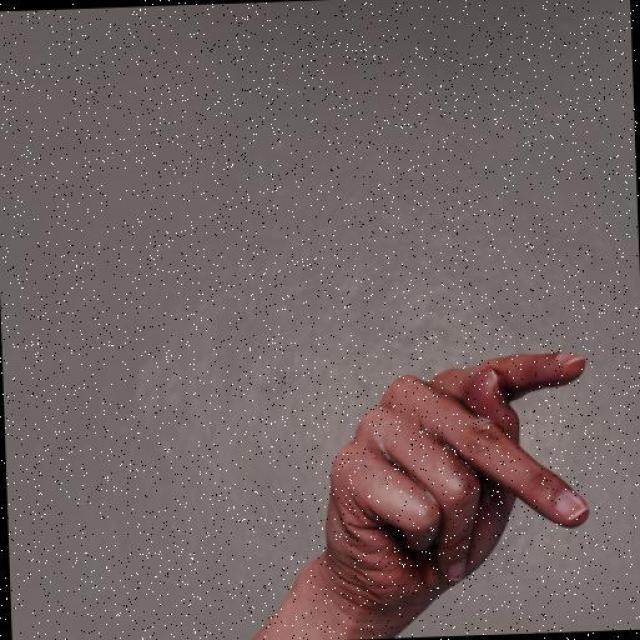P: (286, 346, 599, 634)
